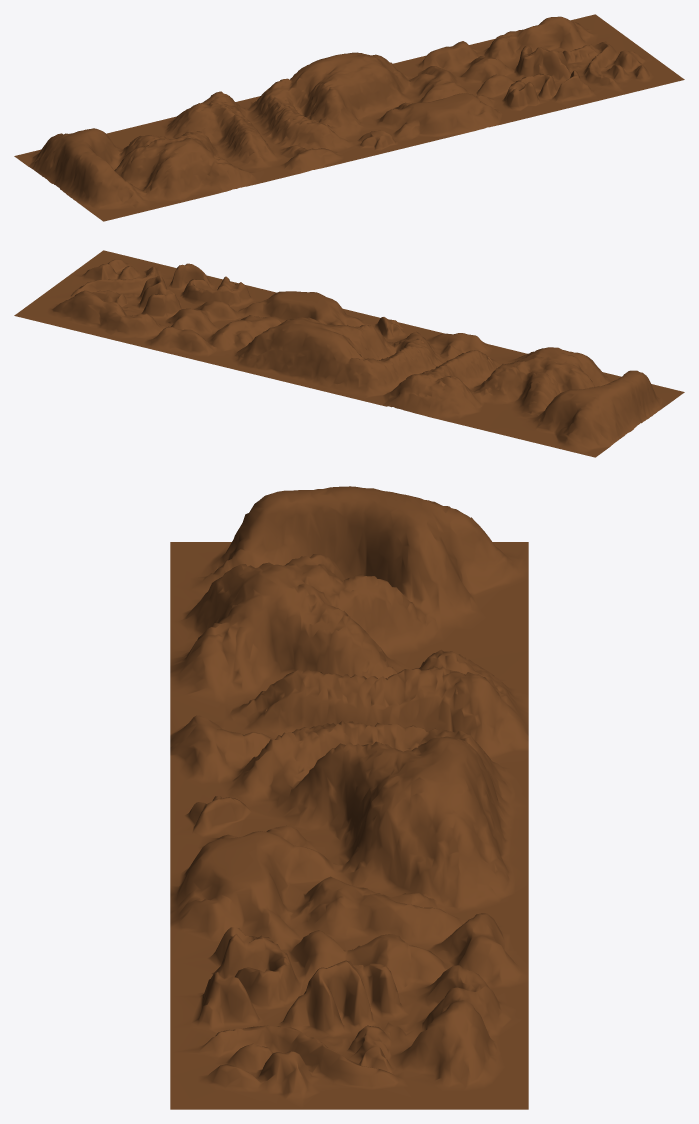
The model's file is Terrain_2autoUV.fbx.
The picture shows the model from 3 angles, top to bottom: view 1: azimuth 30°, elevation 25°; view 2: azimuth 150°, elevation 25°; view 3: azimuth 270°, elevation 25°; orthographic projection. The views are drawn at different scales.
Visible parts, largest first — view 1: pPlane1; view 2: pPlane1; view 3: pPlane1.
Part boxes in pixels (left/top/right/bottom): pPlane1: left=14, top=14, right=684, bottom=221; pPlane1: left=14, top=250, right=684, bottom=457; pPlane1: left=170, top=486, right=528, bottom=1109.
Size of the model in its own units: 750 by 50.03 by 200.
